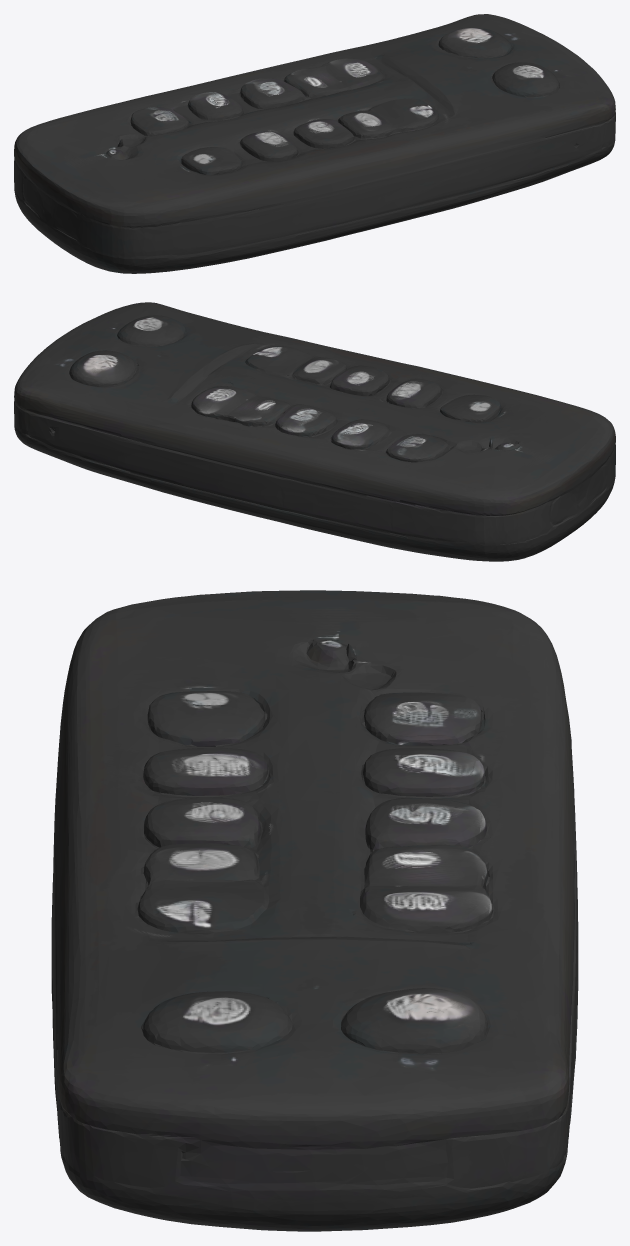
The picture shows the model from 3 angles, top to bottom: view 1: azimuth 30°, elevation 25°; view 2: azimuth 150°, elevation 25°; view 3: azimuth 270°, elevation 25°; orthographic projection. The views are drawn at different scales.
Visible parts, largest first — view 1: remote_control.obj; view 2: remote_control.obj; view 3: remote_control.obj.
Boxes of the visible parts, box(x1,y1,x2,y2) form: remote_control.obj: box(14, 14, 615, 273); remote_control.obj: box(14, 302, 615, 561); remote_control.obj: box(51, 590, 578, 1231).
Size of the model in its own units: 0.15 by 0.0265 by 0.0643.
1 material, 1 textured.
